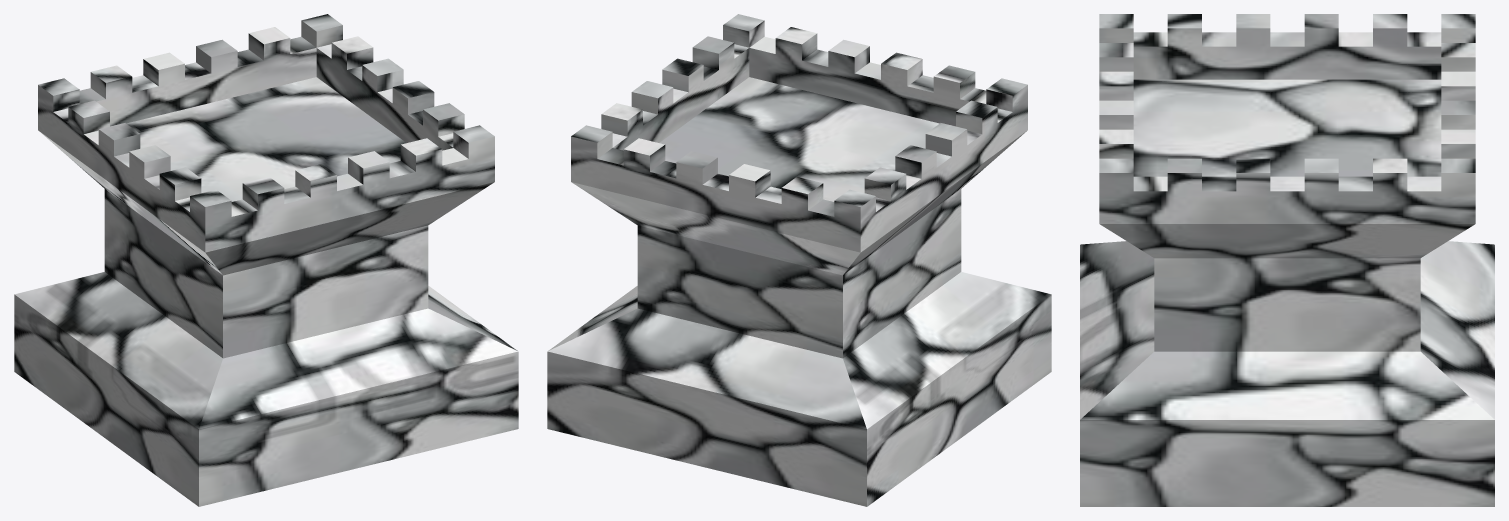
The model's file is StoneWall.fbx.
The picture shows the model from 3 angles, left to right: view 1: azimuth 30°, elevation 25°; view 2: azimuth 150°, elevation 25°; view 3: azimuth 270°, elevation 25°; orthographic projection. The views are drawn at different scales.
Visible parts, largest first — view 1: Wall; view 2: Wall; view 3: Wall.
Boxes of the visible parts, bbox=[...] form: Wall: bbox=[14, 14, 518, 506]; Wall: bbox=[547, 14, 1051, 506]; Wall: bbox=[1080, 14, 1494, 506].
Size of the model in its own units: 200 by 173 by 200.
